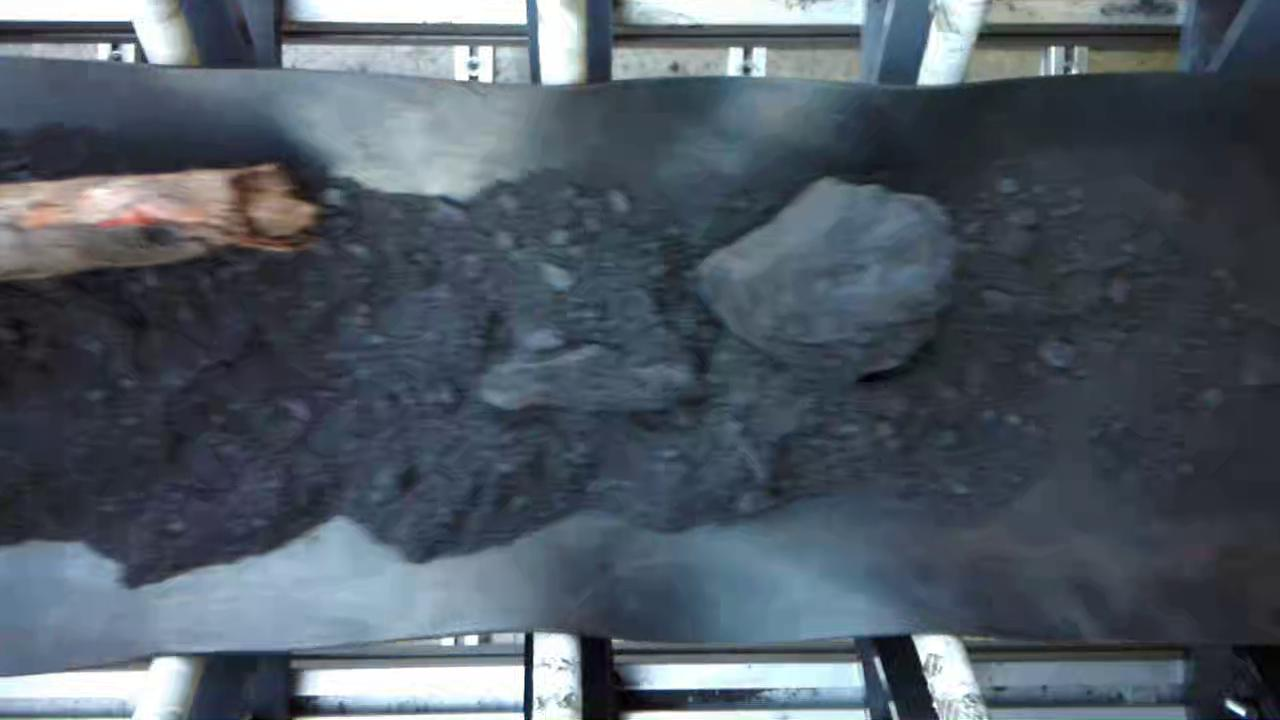conveyor: (1, 88, 1280, 636)
